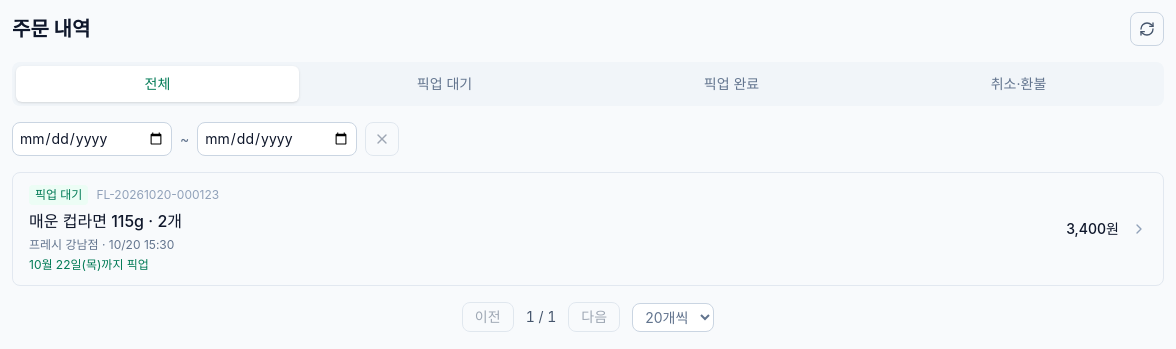
고객 주문 내역 (A3) › 구분을 바꾸면 그 구분으로 다시 읽고, 비어 있으면 구분에 맞는 문구를 보여 준다
Expected: the text "FL-20261020-000123" is shown, [96,187,219,203]
Click the tab "취소·환불".
click(1018, 84)  # box [877,66,1160,102]
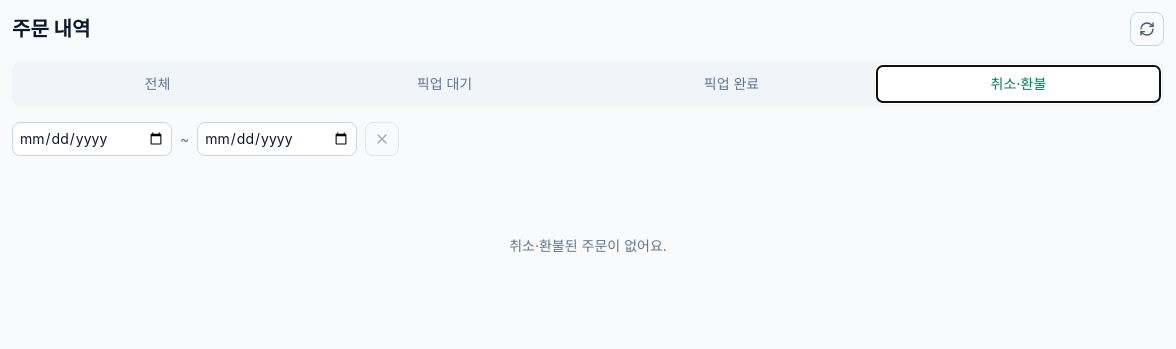
Result: the text "취소·환불된 주문이 없어요." is shown at [509,237,667,254]
Click the tab "픽업 완료".
click(732, 84)  # box [590,66,873,102]
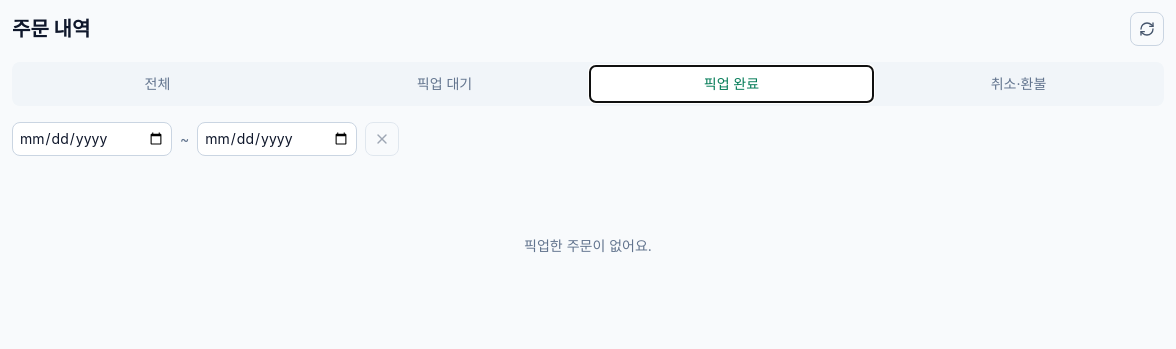
Result: the text "픽업한 주문이 없어요." is shown at [524,237,652,254]
Click the tab "픽업 대기".
click(444, 84)  # box [303,66,586,102]
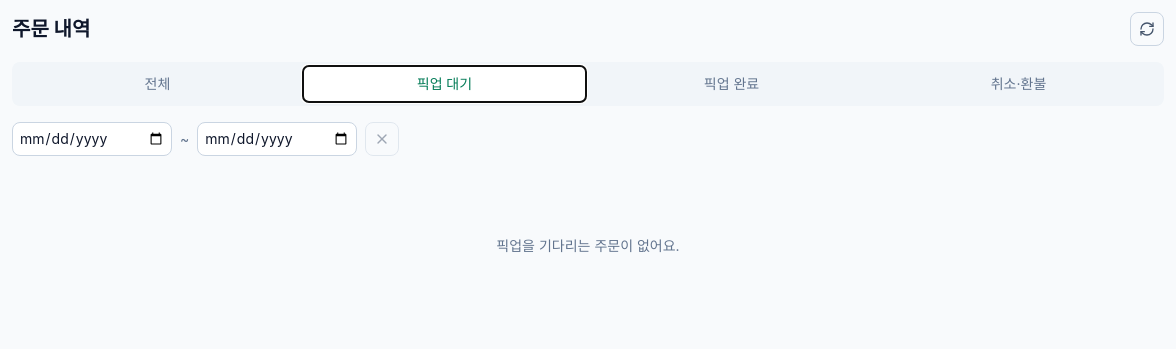
Result: the text "픽업을 기다리는 주문이 없어요." is shown at [496,237,680,254]
